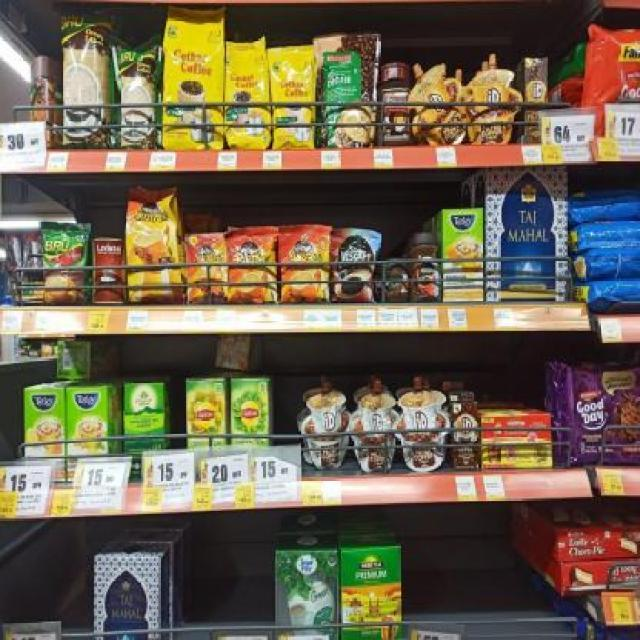Coffee: (127, 194, 178, 301), (280, 227, 329, 301), (229, 231, 275, 301), (334, 231, 373, 301), (413, 236, 441, 302), (385, 263, 409, 304)
